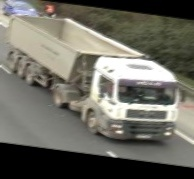truck: (0, 11, 187, 148)
